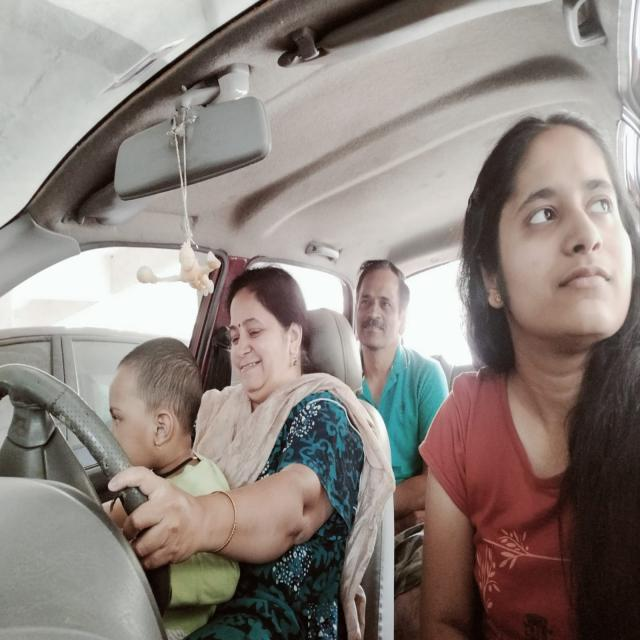child: (107, 332, 205, 494)
person: (462, 109, 638, 412), (225, 256, 308, 407), (352, 254, 416, 368)
